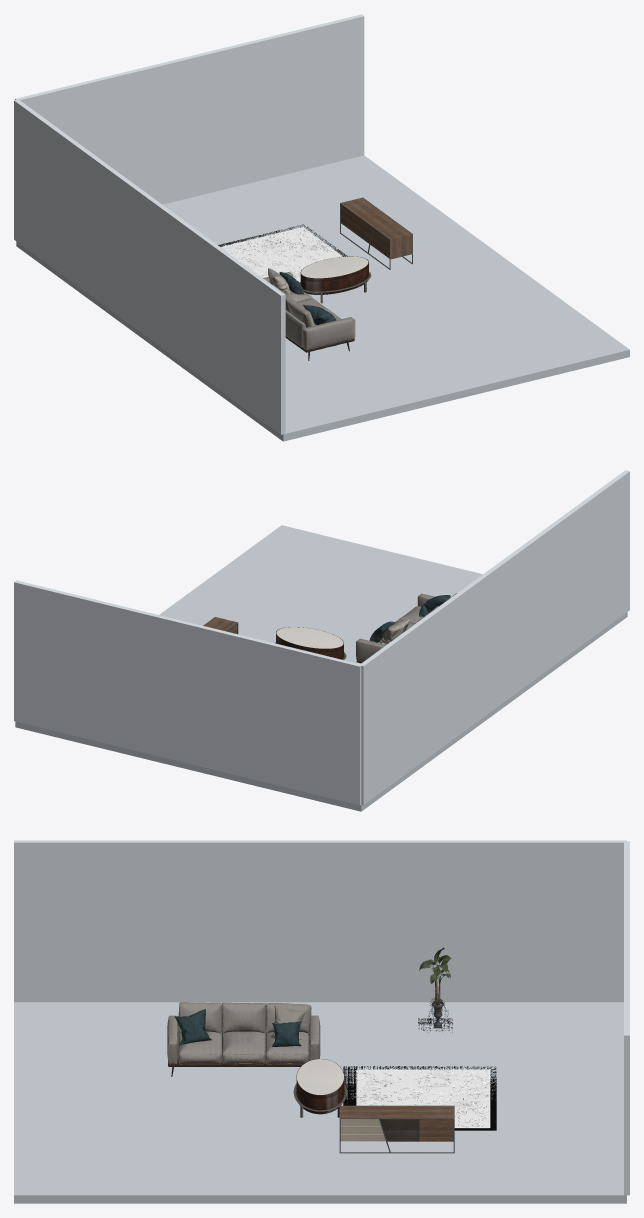
File: stage2.glb
3 renders of one model, top to bottom at view 1: azimuth 30°, elevation 25°; view 2: azimuth 150°, elevation 25°; view 3: azimuth 270°, elevation 25°, orthographic. The views are drawn at different scales.
Parts seen in each view (by area): view 1: Floor, wall_back, wall_left, raw_model.003, raw_model, raw_model.002, raw_model.001; view 2: wall_back, wall_left, Floor, raw_model, raw_model.001; view 3: Floor, wall_left, raw_model, raw_model.003, raw_model.002, raw_model.001, wall_back, raw_model.004.
Part boxes in pixels (x1,y1,x2,y2): Floor: (16,155,629,441); wall_back: (15,14,364,204); wall_left: (14,100,285,434); raw_model.003: (218,224,370,282); raw_model: (263,268,355,360); raw_model.002: (340,197,412,269); raw_model.001: (299,256,371,303); wall_back: (14,580,361,805); wall_left: (360,470,629,804); Floor: (15,525,627,811); raw_model: (356,593,456,663); raw_model.001: (275,627,346,659); Floor: (14,1002,626,1203); wall_left: (14,840,626,1002); raw_model: (167,1002,320,1076); raw_model.003: (343,1066,496,1130); raw_model.002: (339,1105,454,1153); raw_model.001: (293,1059,347,1117); wall_back: (624,841,629,1195); raw_model.004: (418,947,452,1032).
Size of the model in its own units: 6.04 by 2.42 by 8.04.
7 materials, 5 textured.
